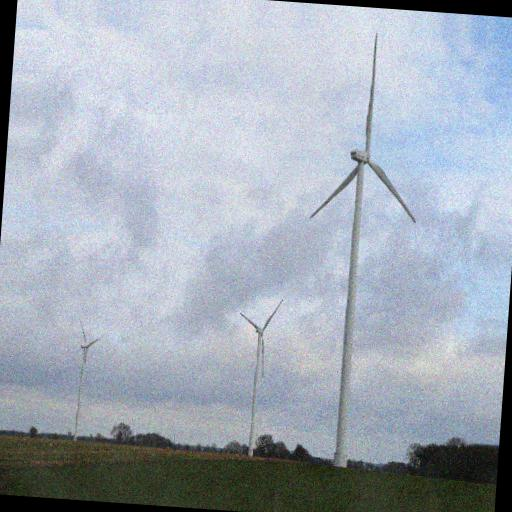wind turbine: (306, 30, 417, 464), (230, 299, 285, 451), (65, 318, 104, 438)
